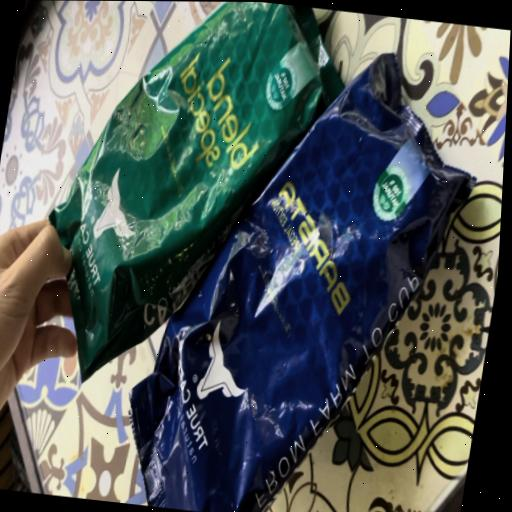cafe_hat: (130, 52, 474, 512)
cafe_xay: (50, 2, 343, 380)
